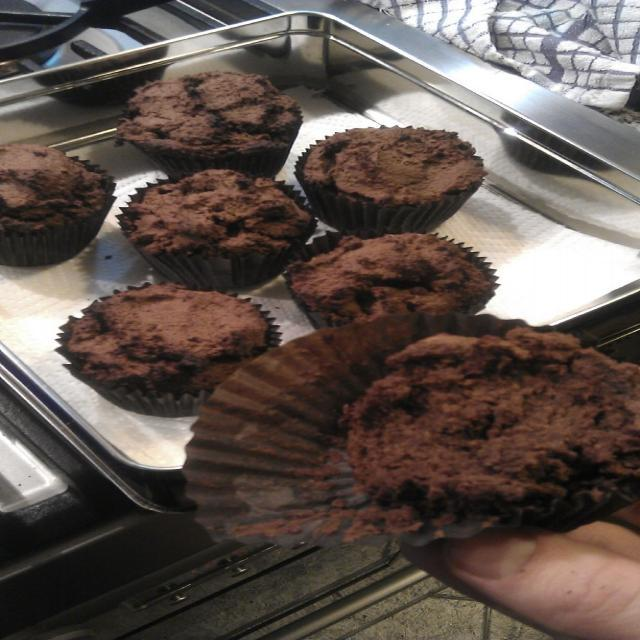Muffin: (0, 67, 490, 420), (336, 326, 640, 516)
